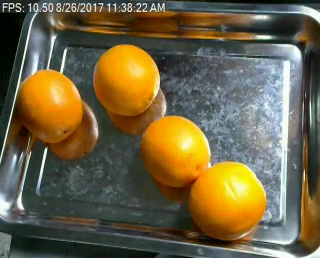Orange: (186, 160, 265, 240), (140, 115, 211, 186), (16, 69, 83, 144), (91, 44, 160, 116)
